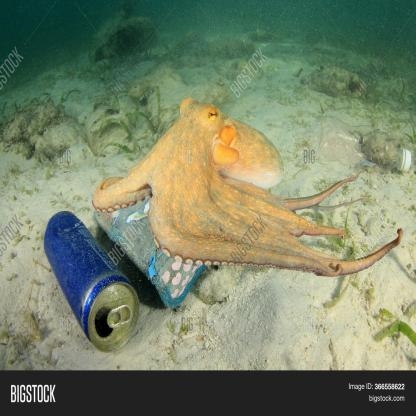bottle: (320, 114, 413, 177)
can: (45, 209, 140, 355)
waste: (94, 209, 205, 309)
